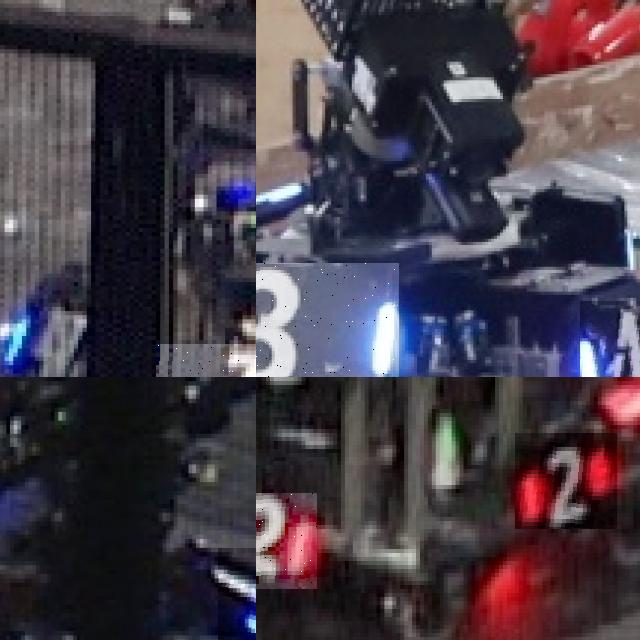B1: (156, 344, 256, 377)
B3: (256, 263, 399, 377)
B4: (580, 301, 640, 377), (218, 547, 256, 640)
R2: (515, 433, 617, 529), (256, 493, 317, 589)
